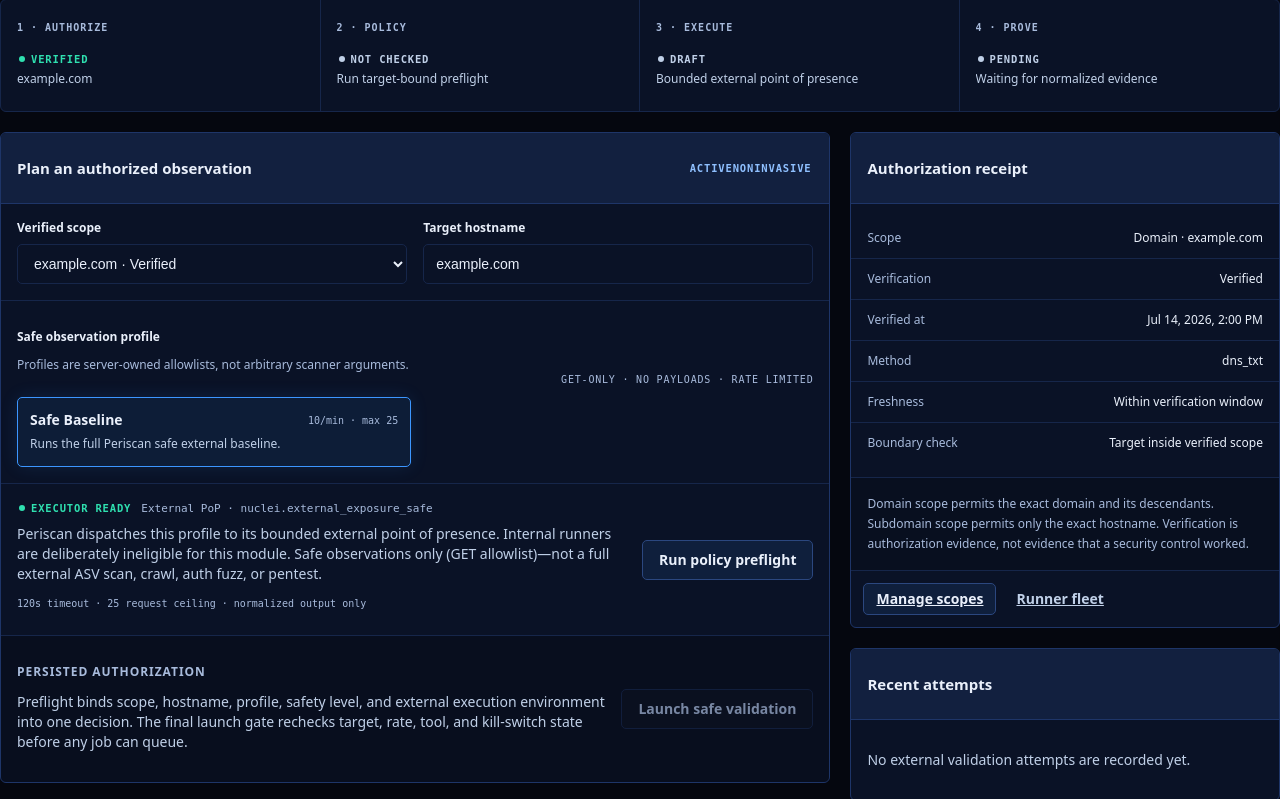
Test: ExternalValidationProfiles › follows the inline guide from verified target to a completed run
Check: the text "Safe Baseline" is shown, box [30, 410, 123, 430]
Check: the text "Target inside verified scope" is shown, box [1109, 434, 1263, 451]
Click the button "Run policy preflight" at (728, 560), box [642, 540, 814, 580]
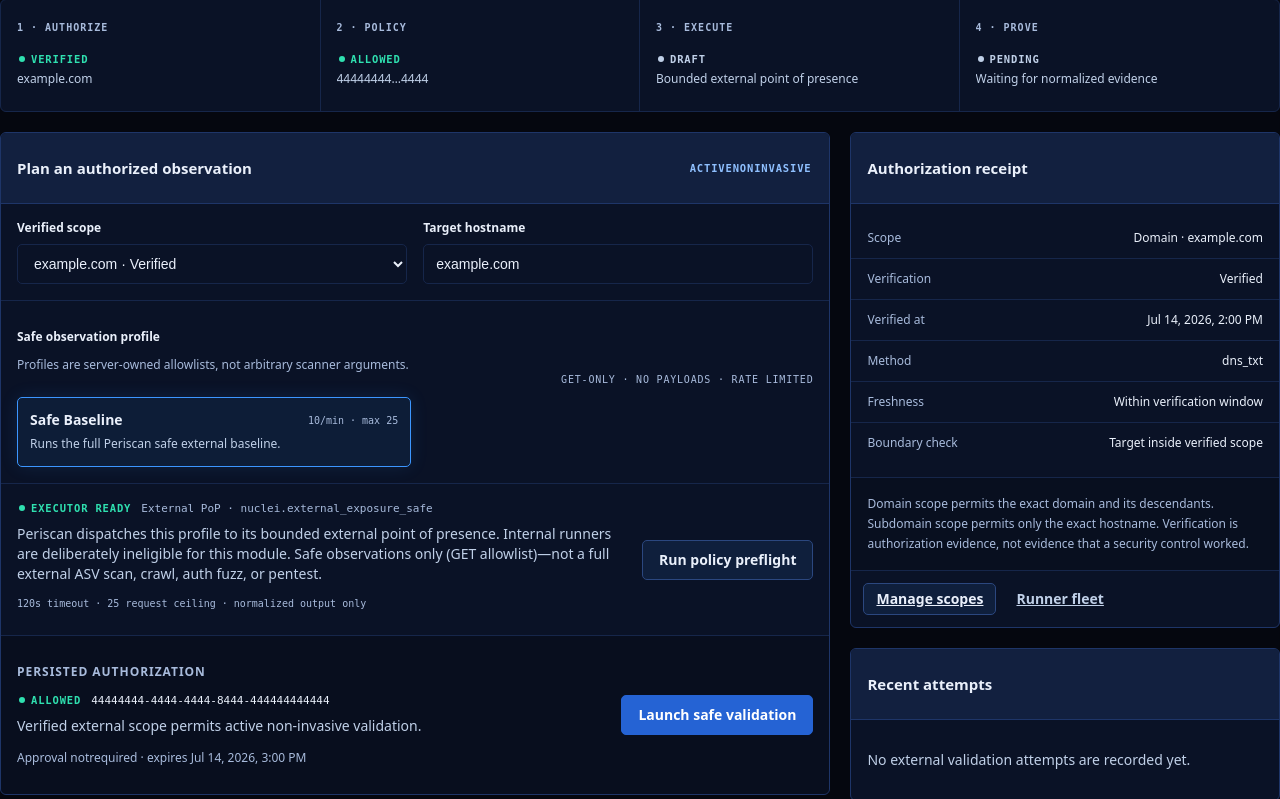
Check: the button "Launch safe validation" is enabled
Check: the text "44444444-4444-4444-8444-444444444444" is shown, box [91, 694, 330, 706]
Click the button "Launch safe validation" at (717, 715), box [621, 695, 813, 735]
(page scrolled)
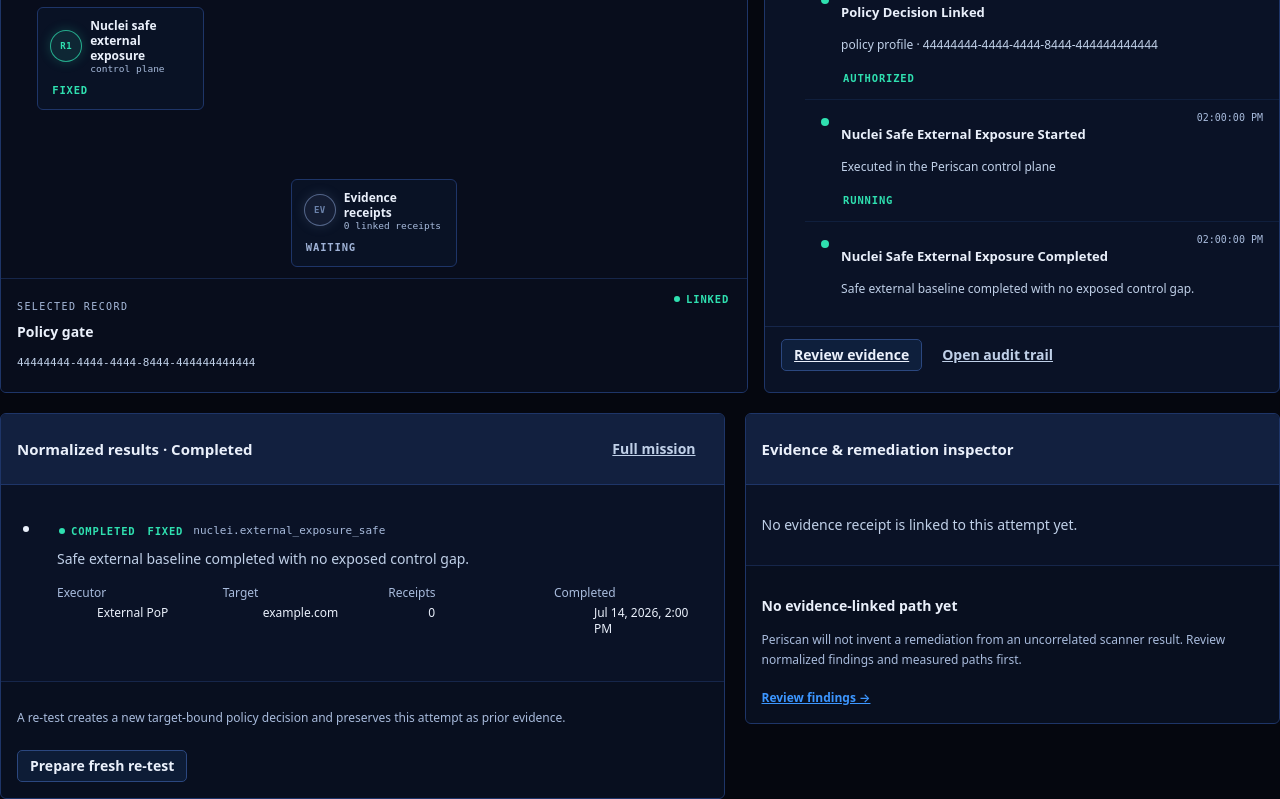
Check: the text "Safe external baseline completed with no exposed control gap." is shown 2 times, box [841, 280, 1194, 297]; [57, 549, 469, 568]
Check: the button "Prepare fresh re-test" is shown, box [17, 750, 187, 782]
Check: the heading "Normalized results · Completed" is shown, box [17, 439, 252, 459]
